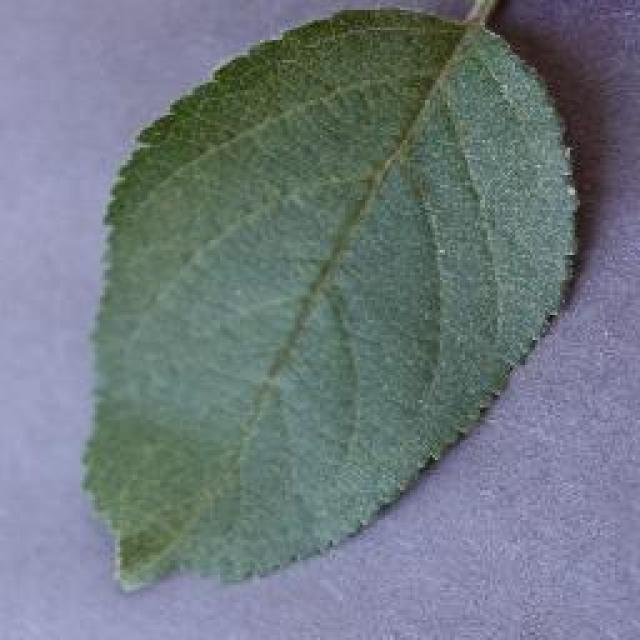apple healthy: (77, 0, 584, 592)
